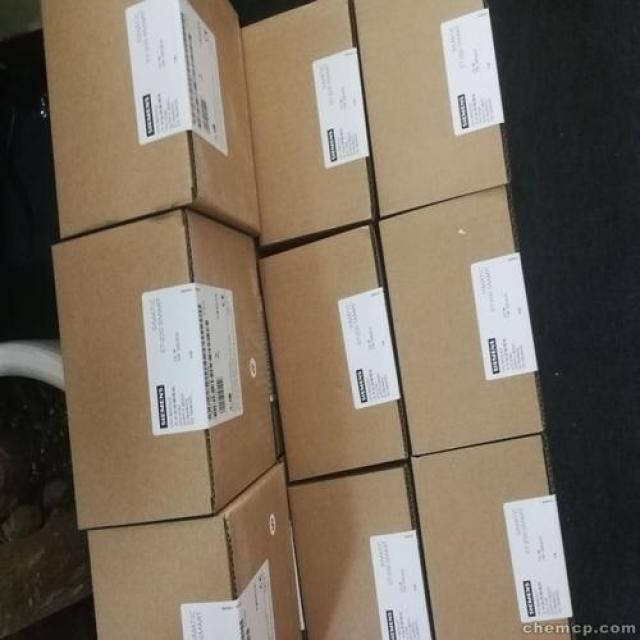box: (51, 209, 279, 528), (42, 0, 263, 240), (376, 186, 545, 458), (258, 223, 408, 484), (89, 462, 307, 639), (353, 1, 510, 220), (408, 433, 571, 639), (242, 0, 376, 250), (285, 463, 433, 639)
